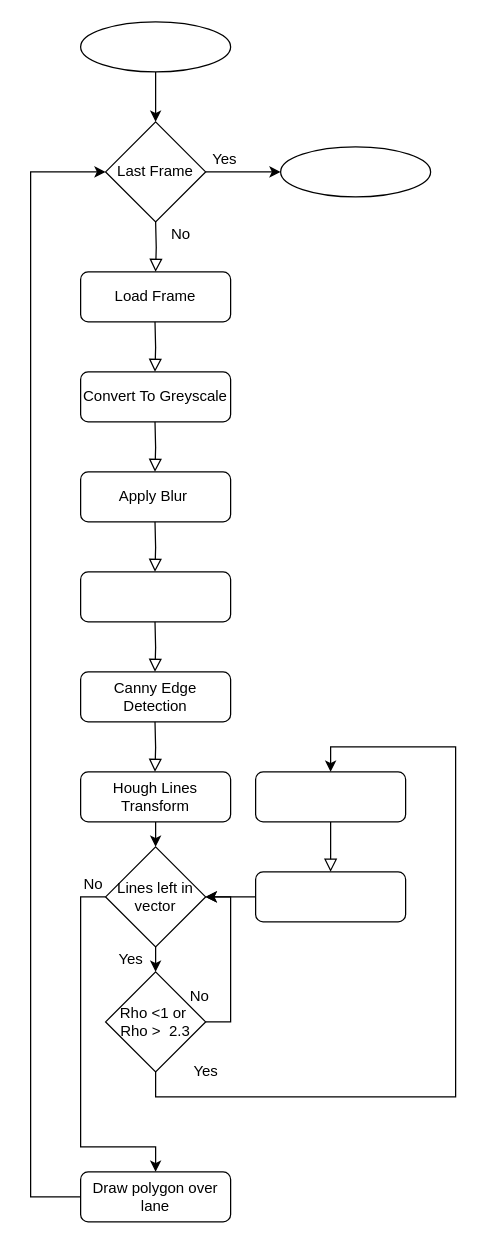
Some shapes in this 488 by 1244 pixel diagram are drawn without their labels. Each missing label, with the centre of its shape:
Draw Line: the point at 330,896
Rectanlge overlay on upper half: the point at 155,596
START: the point at 155,46
STOP: the point at 355,171
Termporal Smoothing: the point at 330,796
